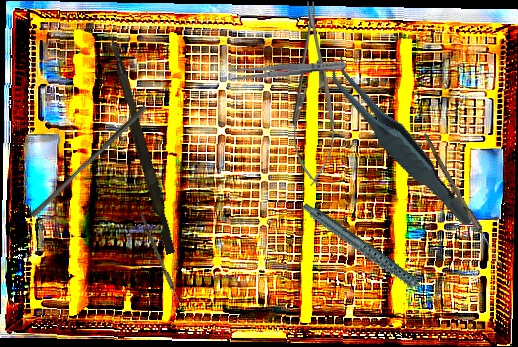Dressing Forceps: (230, 57, 347, 83)
Handpiece: (301, 180, 438, 328)
Needle Holder: (290, 0, 337, 187)
Pusher: (101, 36, 181, 255), (29, 100, 148, 222)
Surgical Spoon: (420, 133, 505, 268), (137, 212, 188, 317)
Tissue Forceps: (322, 34, 477, 250)
